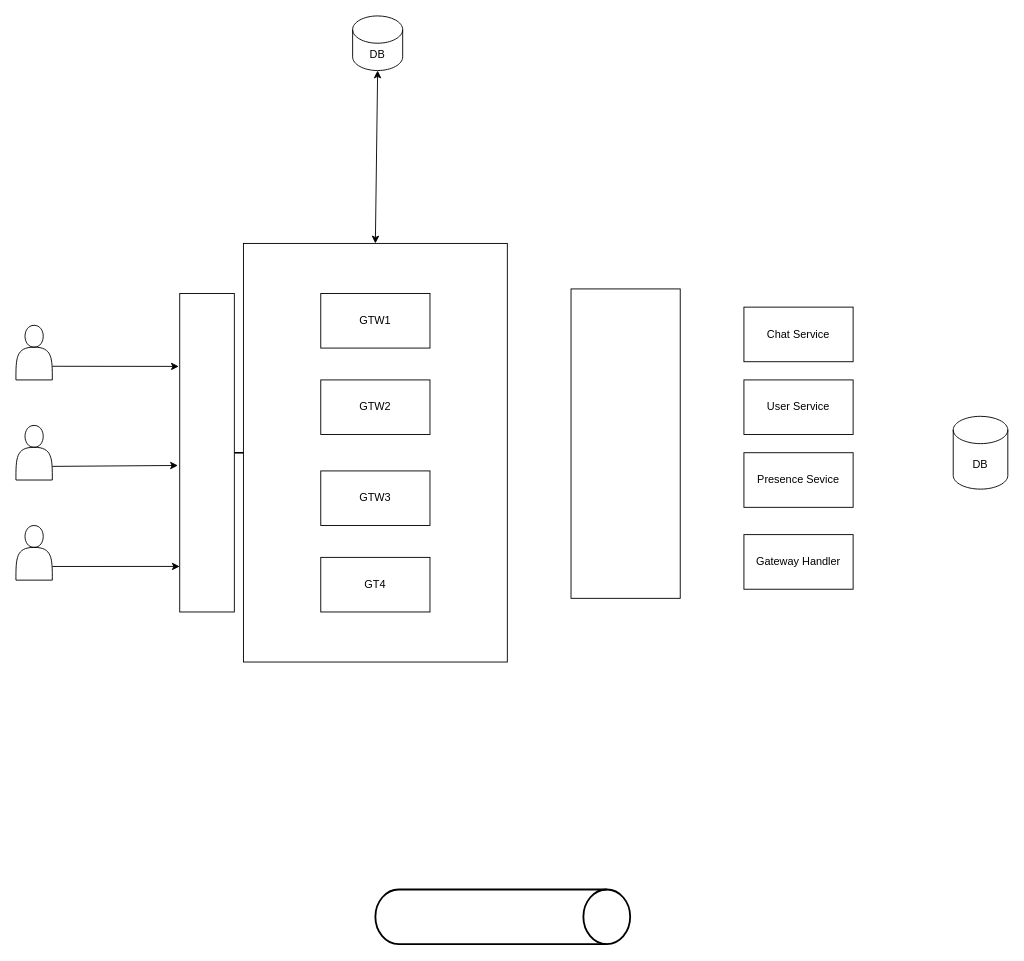
Image size: 1024x961. Some labels were removed from this diagram. Here are the shapes that lost their labels. From the top down, the box of each, then its label:
(179, 293, 234, 612): Load Balancer
(570, 288, 680, 598): LB
(374, 888, 631, 945): Queue
